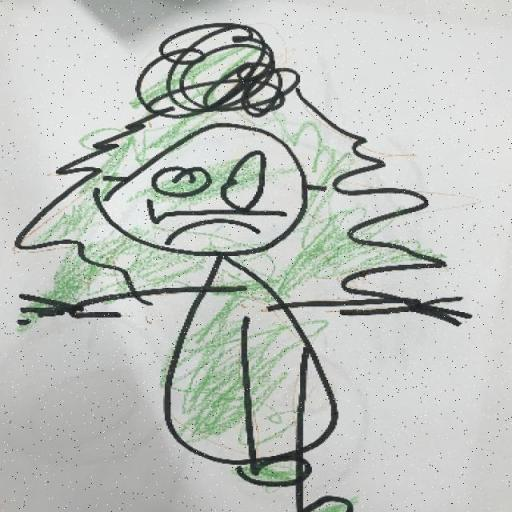person: (12, 25, 470, 512)
